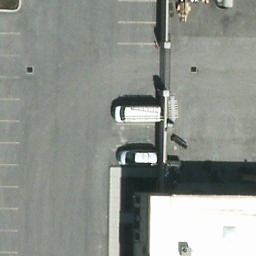car: (116, 151, 161, 170)
van: (113, 106, 163, 123)
